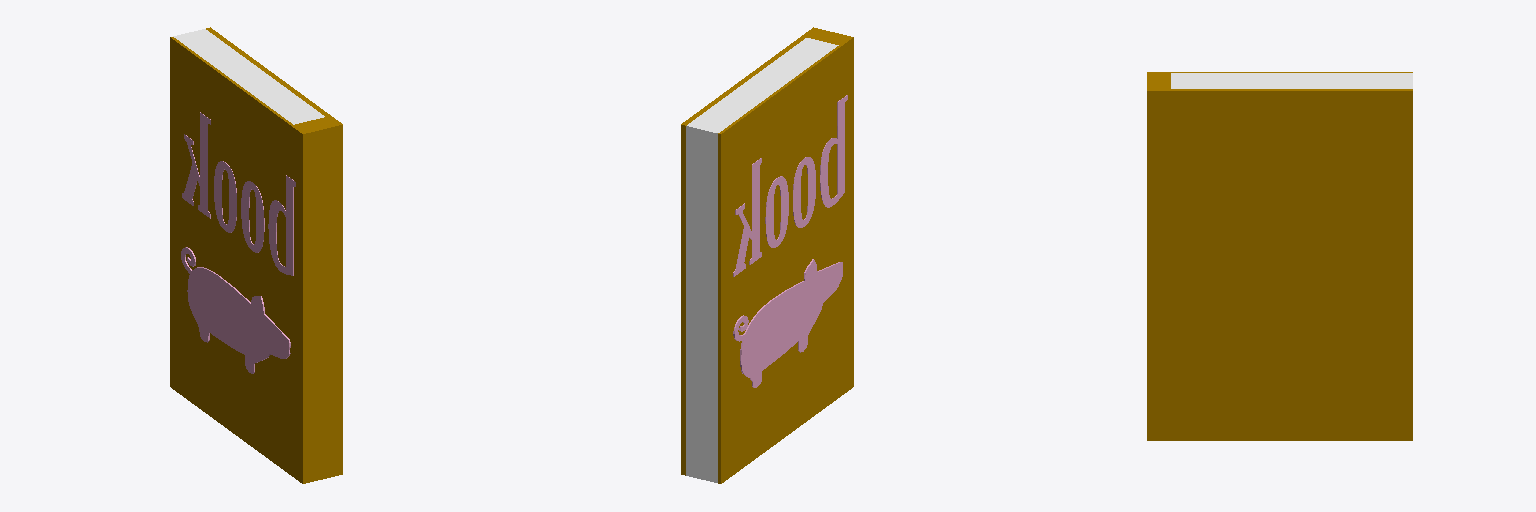
Rendered from YellowBook.obj.
The picture shows the model from 3 angles: view 1: azimuth 30°, elevation 25°; view 2: azimuth 150°, elevation 25°; view 3: azimuth 270°, elevation 25°; orthographic projection.
Visible parts, largest first — view 1: tinker; view 2: tinker; view 3: tinker.
Boxes of the visible parts, x1,y1,x2,y2 form: tinker: [170, 27, 342, 483]; tinker: [681, 27, 853, 483]; tinker: [1147, 72, 1412, 440].
Bounding box in the file's own units: 2 × 16 × 11.